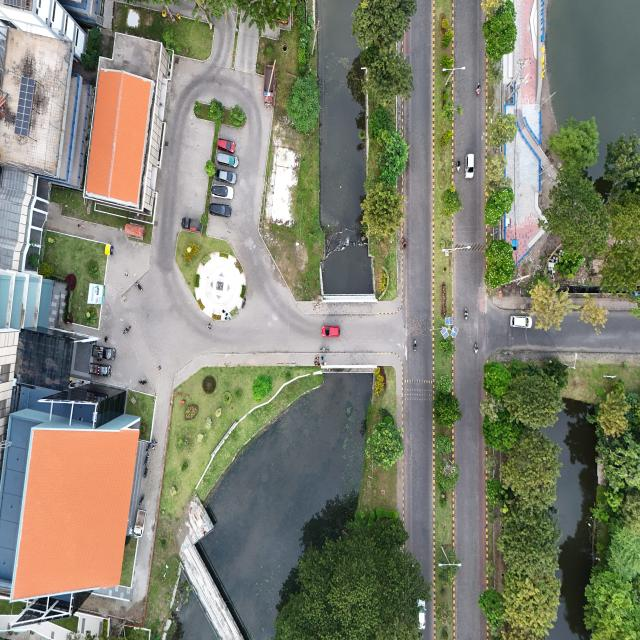Tree: (503, 432, 558, 510), (498, 511, 557, 578), (505, 365, 558, 430), (370, 49, 415, 102), (361, 185, 404, 240), (285, 74, 322, 132), (483, 2, 518, 62), (372, 132, 410, 183), (364, 424, 404, 471), (484, 236, 515, 290), (479, 582, 505, 625), (484, 187, 515, 223), (485, 359, 511, 396), (439, 185, 463, 219), (436, 393, 459, 427), (478, 396, 502, 420), (251, 373, 273, 398), (484, 480, 502, 505), (228, 103, 246, 128), (208, 98, 225, 124), (436, 432, 453, 457), (441, 125, 453, 151), (436, 375, 452, 394), (442, 28, 452, 52), (205, 159, 215, 178)
